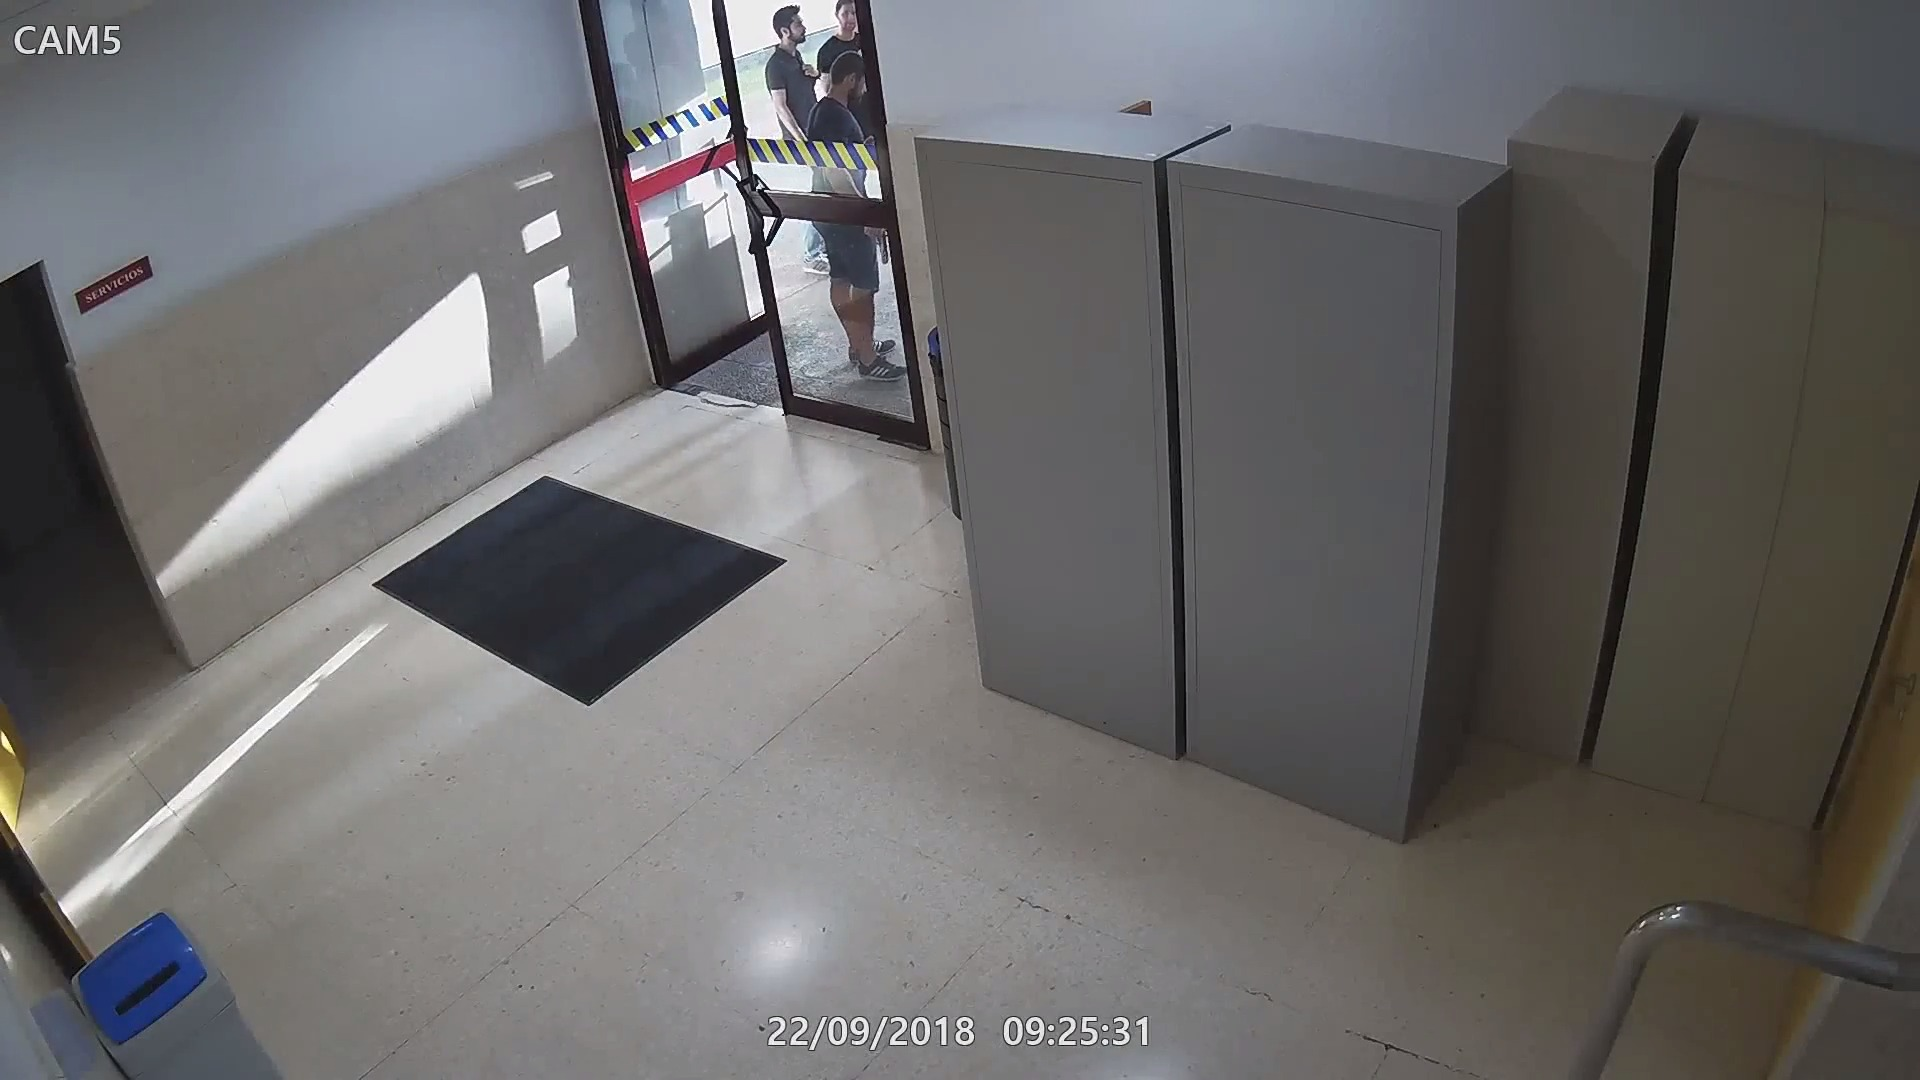pistol: (862, 227, 891, 265)
